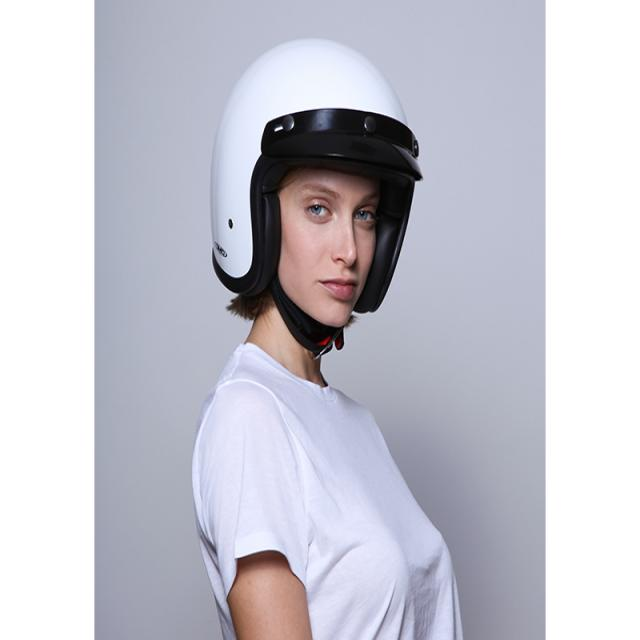helmet: (199, 28, 428, 363)
